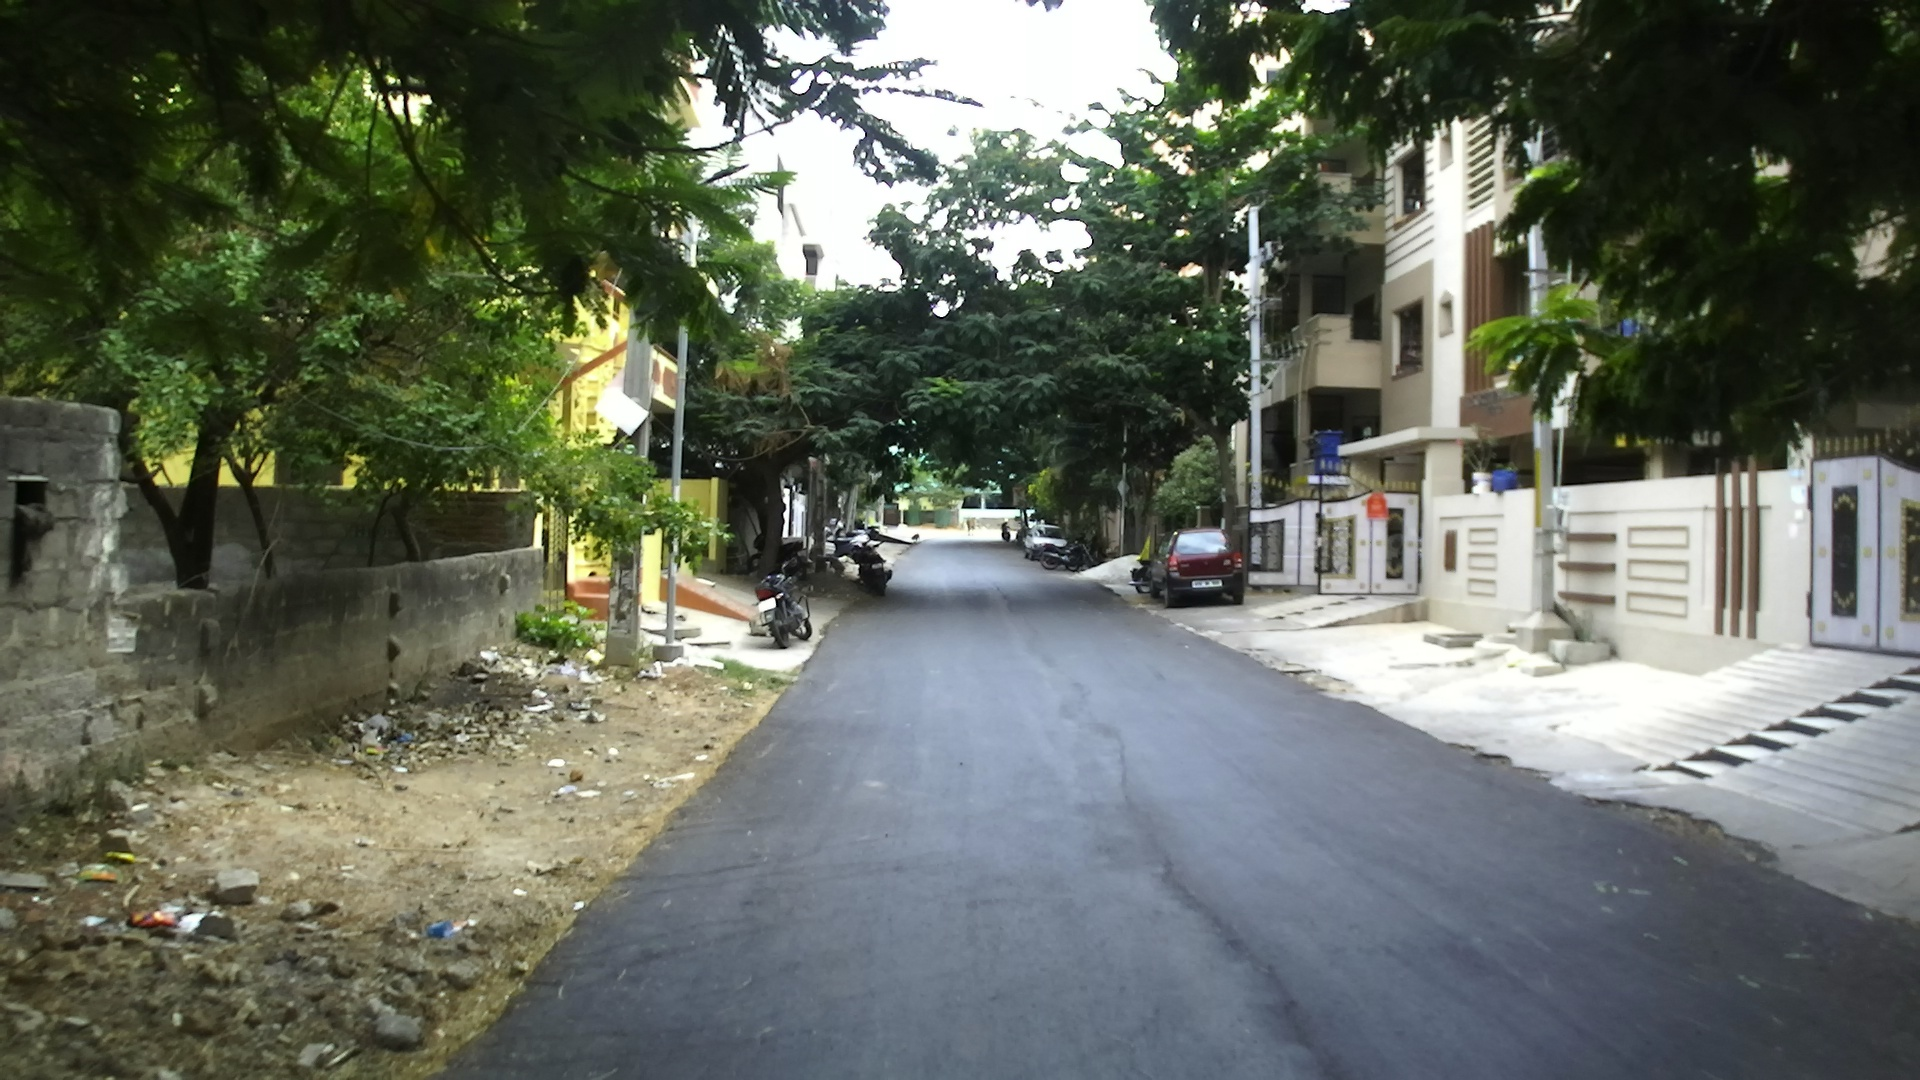vehicle: (1159, 531, 1247, 607), (1021, 522, 1069, 564), (1025, 530, 1073, 568)
